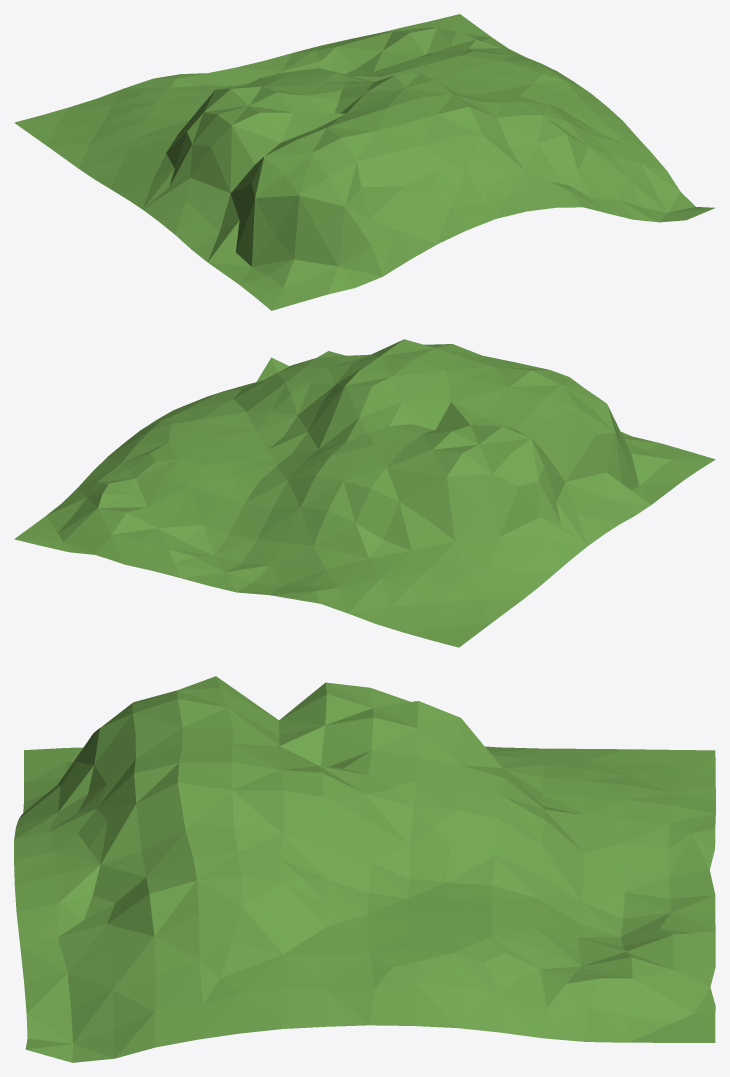
File: Mountain 2.fbx
3 views of the same model, one above another, from view 1: azimuth 30°, elevation 25°; view 2: azimuth 150°, elevation 25°; view 3: azimuth 270°, elevation 25° (orthographic). The views are drawn at different scales.
Visible parts, largest first — view 1: Plane; view 2: Plane; view 3: Plane.
Part boxes in pixels (box(x1,y1,x2,y2)): Plane: box(14, 14, 714, 310); Plane: box(14, 339, 715, 647); Plane: box(14, 676, 715, 1062).
Bounding box in the file's own units: 1006 × 254 × 1015.
